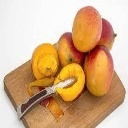mango: (71, 6, 102, 52)
